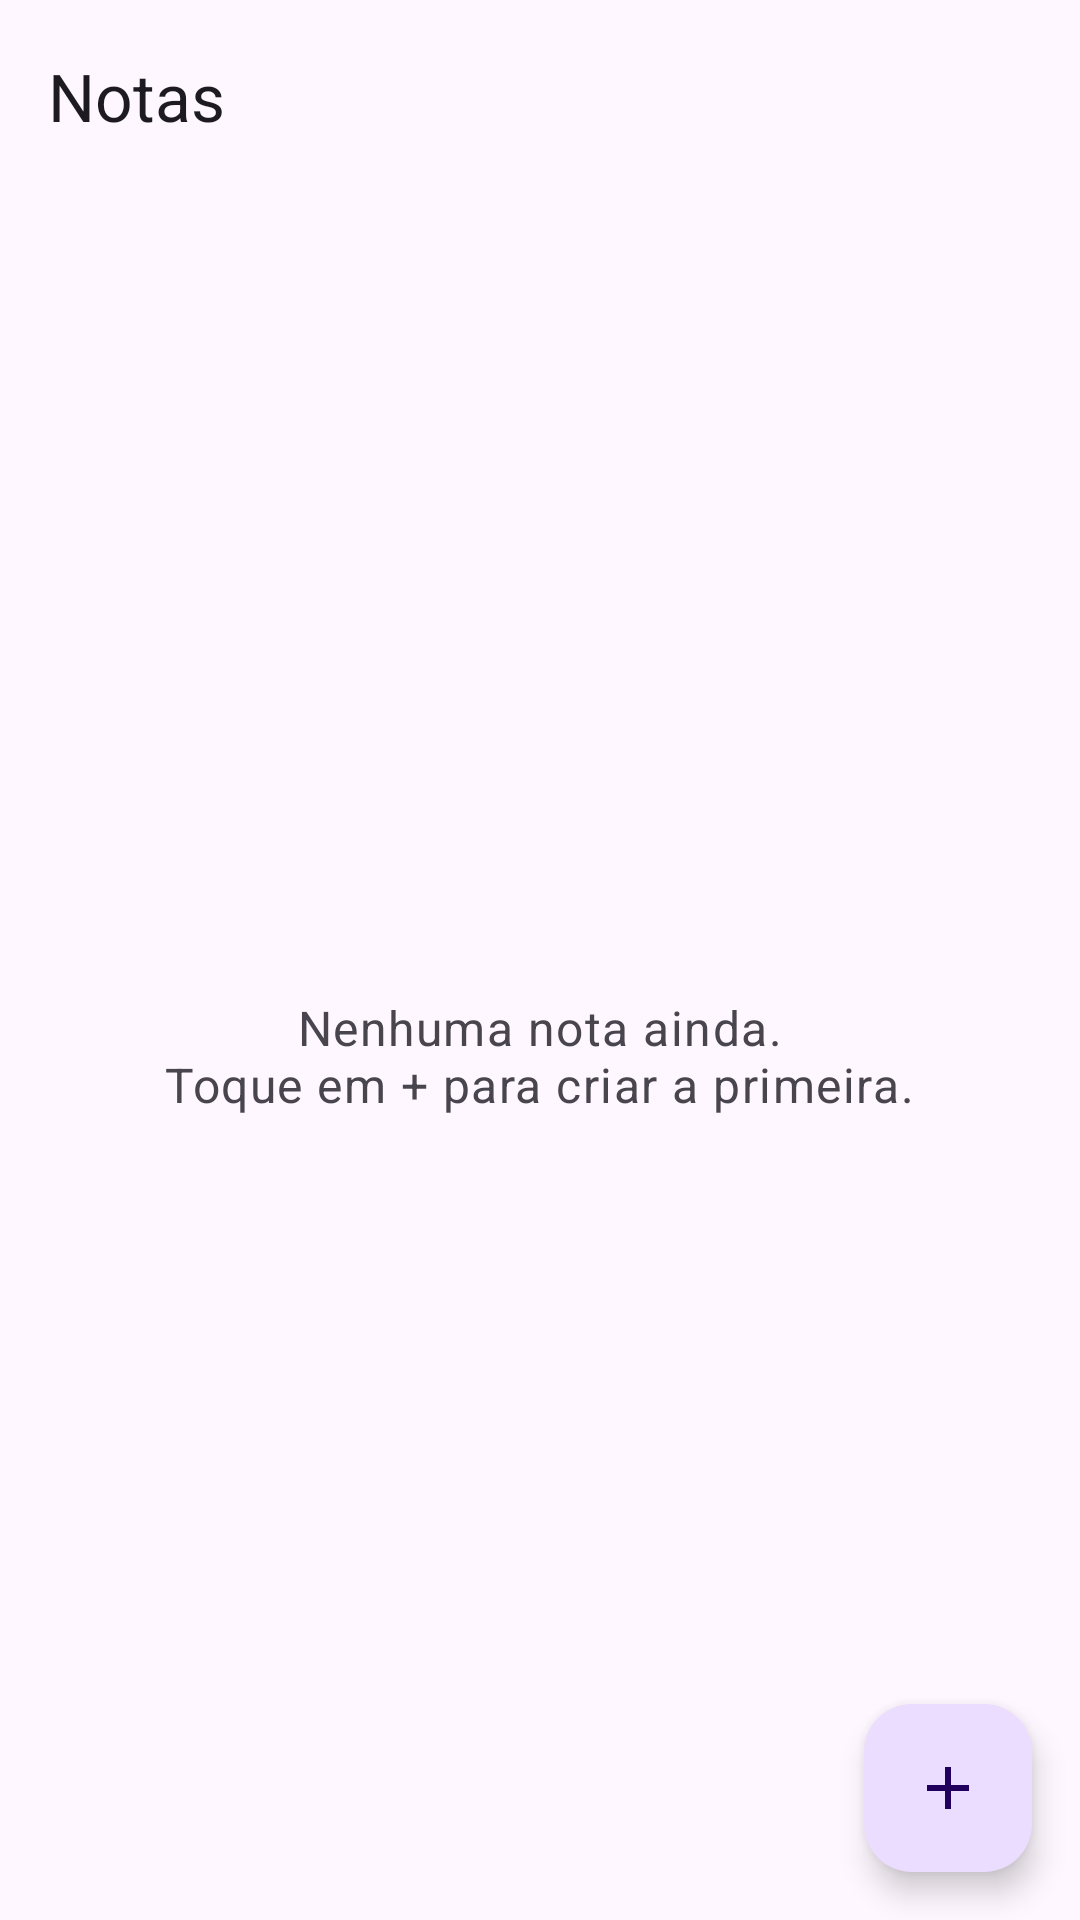

Locate icon controls on the screen. Image size 1080w x 1920h, boxes as box(x1, y1, x2, y2).
Nova nota: box(864, 1704, 1032, 1872)
